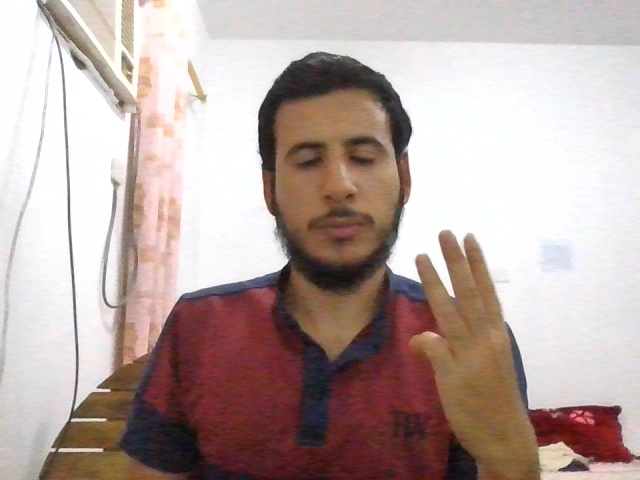Three: (408, 229, 537, 457)
